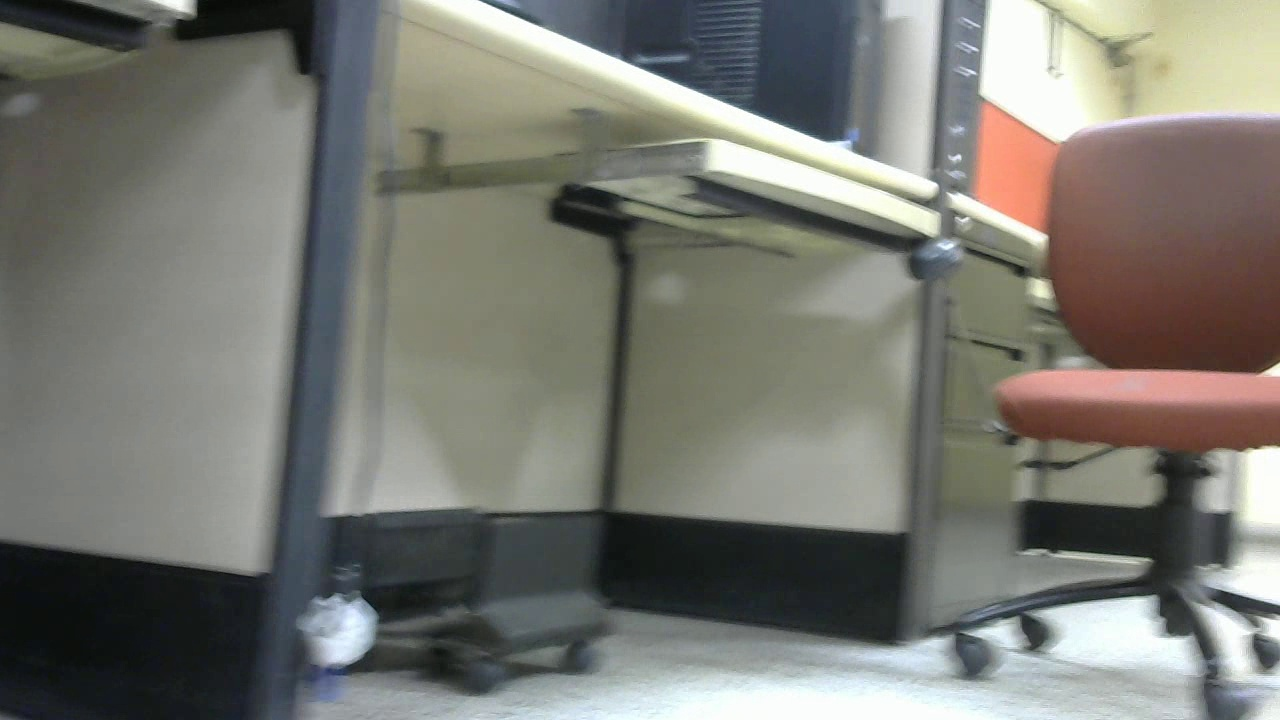chair: (908, 113, 1280, 720)
